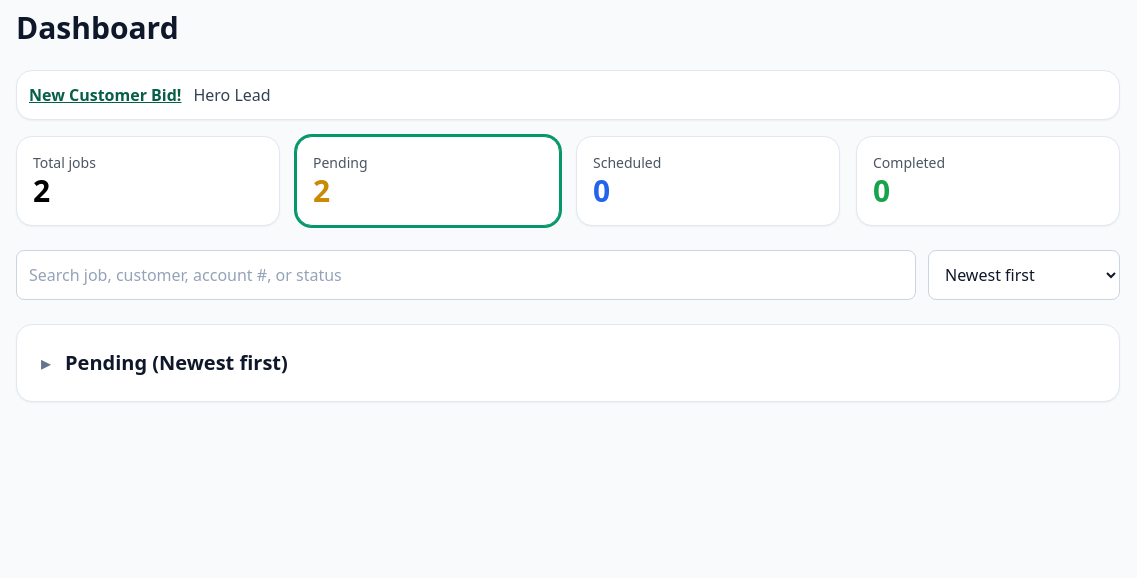
Dashboard Component › links New Customer Bid to the customer from the Request a Bid page and removes it after it is opened
Step 1. Click the button "▸ Pending (Newest first)" → (164, 363), box [41,349,288,377]
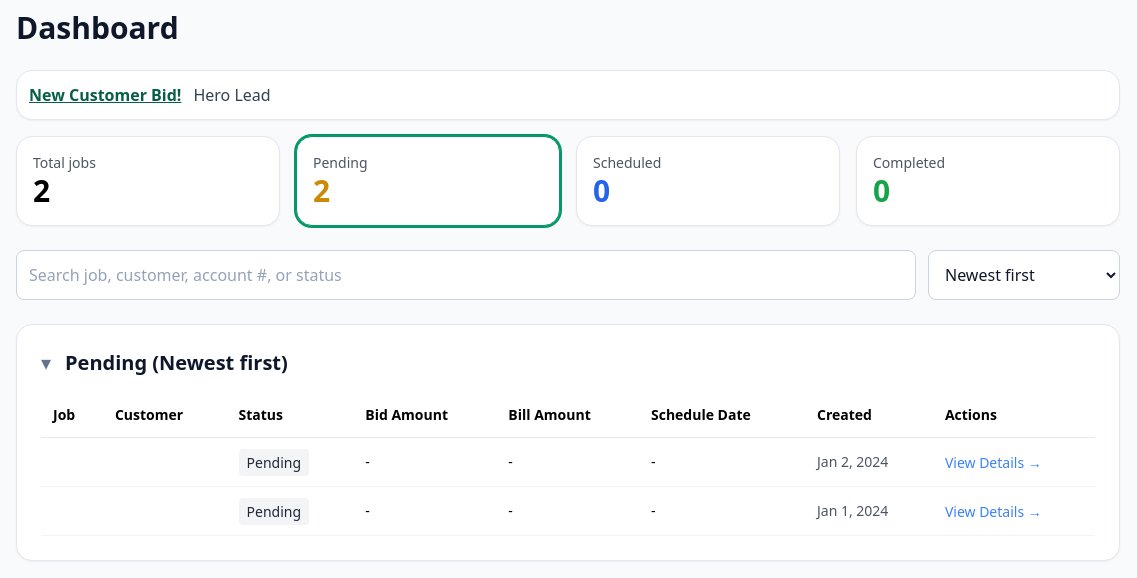
Expected: the text "Hero Lead" is shown, [193,83,271,107]
Step 2. Click the link "New Customer Bid!" → (105, 95), box [29,83,181,107]
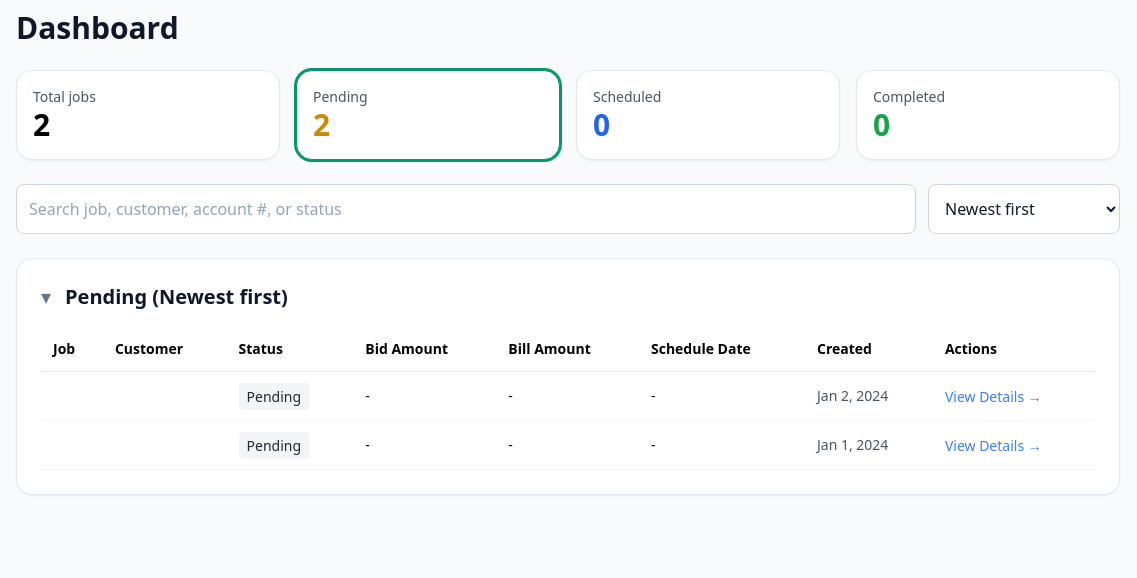
Expected: the link "New Customer Bid!" is gone
